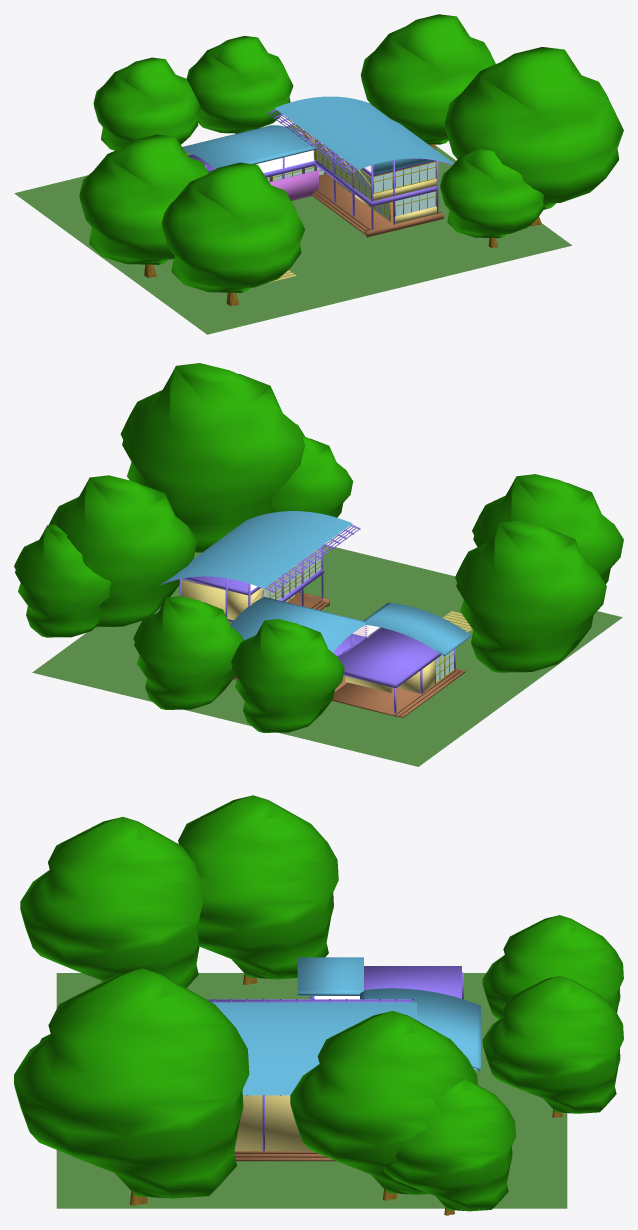
File: MiniLibrary.glb
3 views of the same model, one above another, from view 1: azimuth 30°, elevation 25°; view 2: azimuth 150°, elevation 25°; view 3: azimuth 270°, elevation 25° (orthographic). The views are drawn at different scales.
Parts seen in each view (by area): view 1: grass, Foliage13, Foliage14, Foliage02, Foliage04, Foliage11, Foliage09, Foliage10, roof, rafter20, floor_base, Name_wall (+6 smaller); view 2: grass, Foliage13, Foliage02, Foliage04, Foliage09, Foliage11, roof, Foliage12, Foliage14, Foliage10, display_roof_beam02, rafter20 (+4 smaller); view 3: Foliage13, grass, Foliage14, Foliage02, Foliage04, Foliage11, Foliage12, roof, Foliage09, rafter20, library_wall_back, rafter19 (+1 smaller).
Part boxes in pixels (bbox=[...]): grass: bbox=[14, 124, 571, 334]; Foliage13: bbox=[444, 47, 623, 226]; Foliage14: bbox=[161, 162, 304, 306]; Foliage02: bbox=[79, 134, 208, 277]; Foliage04: bbox=[361, 14, 495, 149]; Foliage11: bbox=[186, 36, 293, 133]; Foliage09: bbox=[93, 57, 200, 150]; Foliage10: bbox=[440, 148, 544, 247]; roof: bbox=[274, 96, 453, 169]; rafter20: bbox=[182, 125, 316, 169]; floor_base: bbox=[316, 174, 438, 230]; Name_wall: bbox=[269, 170, 318, 200]; grass: bbox=[32, 545, 622, 766]; Foliage13: bbox=[120, 363, 305, 552]; Foliage02: bbox=[455, 520, 606, 672]; Foliage04: bbox=[49, 475, 196, 627]; Foliage09: bbox=[231, 619, 344, 732]; Foliage11: bbox=[133, 596, 243, 709]; roof: bbox=[159, 511, 352, 588]; Foliage12: bbox=[14, 524, 111, 637]; Foliage14: bbox=[472, 474, 623, 583]; Foliage10: bbox=[271, 436, 353, 517]; display_roof_beam02: bbox=[338, 627, 441, 688]; rafter20: bbox=[230, 597, 365, 652]; Foliage13: bbox=[14, 968, 249, 1205]; grass: bbox=[56, 973, 567, 1208]; Foliage14: bbox=[20, 817, 203, 988]; Foliage02: bbox=[178, 795, 338, 985]; Foliage04: bbox=[290, 1011, 477, 1200]; Foliage11: bbox=[482, 975, 623, 1117]; Foliage12: bbox=[383, 1079, 515, 1215]; roof: bbox=[212, 1002, 416, 1095]; Foliage09: bbox=[482, 915, 623, 1019]; rafter20: bbox=[360, 988, 480, 1070]; library_wall_back: bbox=[234, 1095, 311, 1151]; rafter19: bbox=[297, 957, 363, 995].
Size of the model in its own units: 123 by 40.84 by 103.
